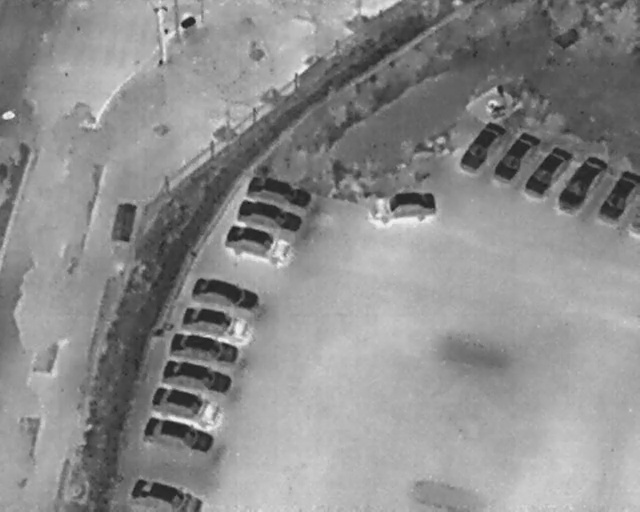Car: (550, 146, 614, 220), (146, 378, 227, 433), (219, 219, 295, 272), (518, 138, 577, 204), (452, 111, 508, 180), (138, 411, 219, 457), (488, 124, 545, 188), (231, 191, 306, 239), (187, 270, 263, 317), (242, 168, 316, 214), (158, 355, 236, 398), (166, 327, 244, 370), (178, 301, 254, 344), (366, 187, 438, 229), (130, 476, 206, 510), (597, 168, 639, 223)
